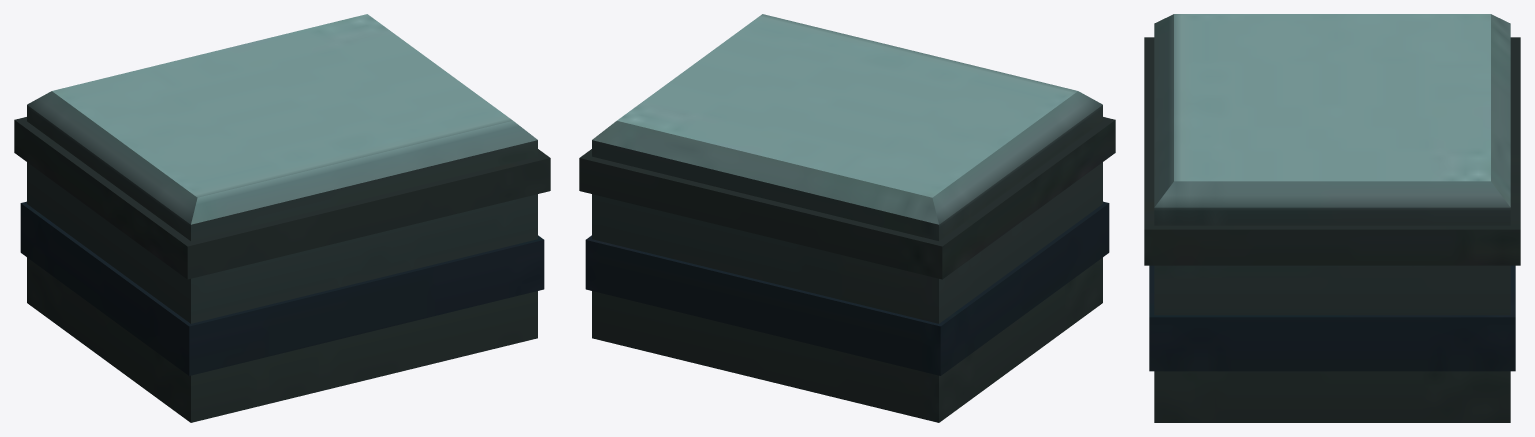
The model's file is requester-chest.glb.
The picture shows the model from 3 angles, left to right: view 1: azimuth 30°, elevation 25°; view 2: azimuth 150°, elevation 25°; view 3: azimuth 270°, elevation 25°; orthographic projection. The views are drawn at different scales.
Parts seen in each view (by area): view 1: requester-chest; view 2: requester-chest; view 3: requester-chest.
Boxes of the visible parts, box(x1,y1,x2,y2) form: requester-chest: box(14, 14, 550, 422); requester-chest: box(579, 14, 1115, 422); requester-chest: box(1144, 14, 1520, 422).
Size of the model in its own units: 0.23 by 0.13 by 0.19.
Materials: 1 (1 with a texture image).
